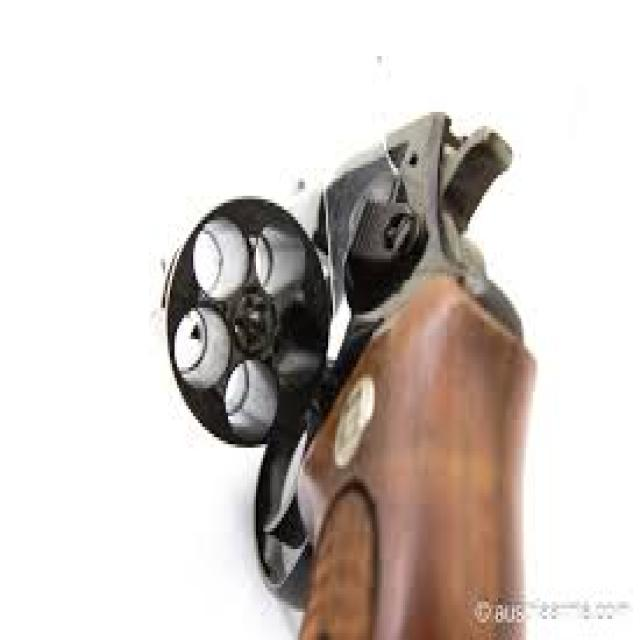Gun: (122, 58, 548, 640)
